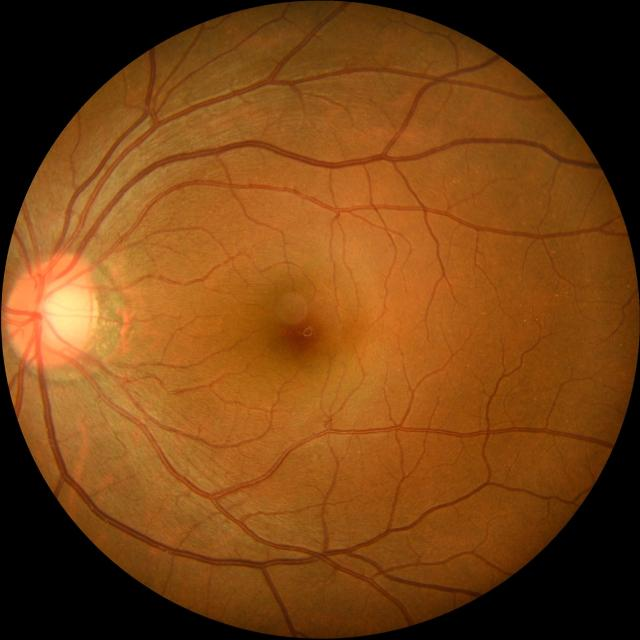OC: (36, 286, 81, 340)
OD: (8, 256, 100, 368)
